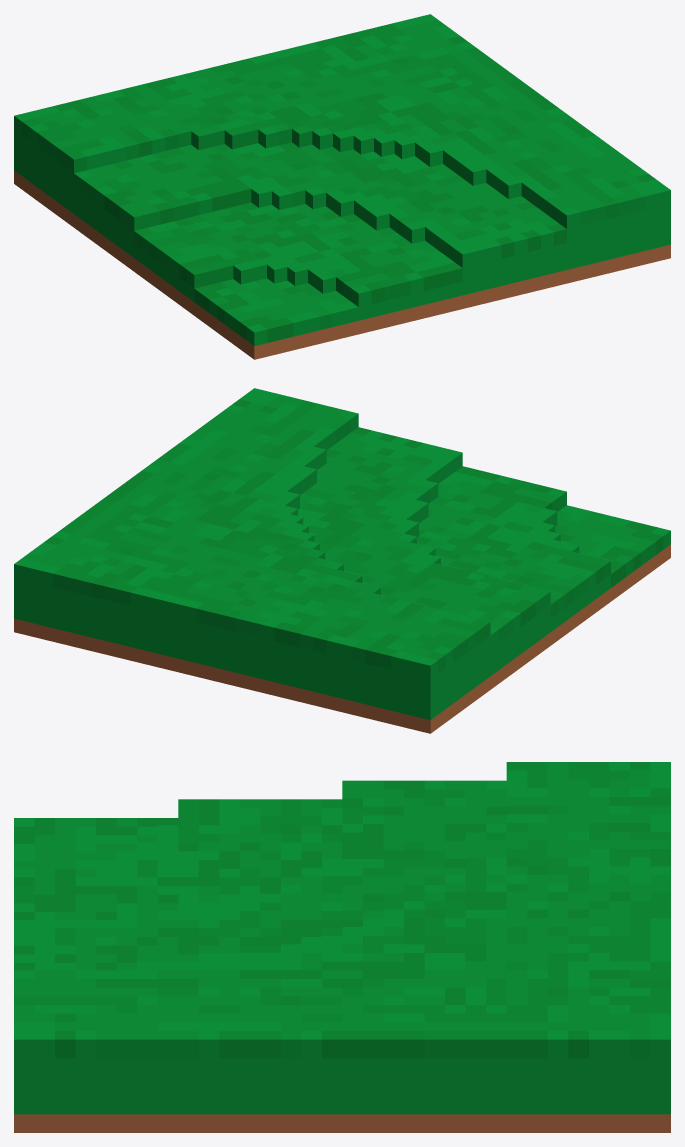
Rendered from forest-uneven-edge-inner-2.gltf.
3 renders of one model, top to bottom at view 1: azimuth 30°, elevation 25°; view 2: azimuth 150°, elevation 25°; view 3: azimuth 270°, elevation 25°, orthographic. The views are drawn at different scales.
Parts seen in each view (by area): view 1: forest-uneven-edge-inner-2_model; view 2: forest-uneven-edge-inner-2_model; view 3: forest-uneven-edge-inner-2_model.
Boxes of the visible parts, <box> form: forest-uneven-edge-inner-2_model: <box>14,14,670,359</box>; forest-uneven-edge-inner-2_model: <box>14,388,670,733</box>; forest-uneven-edge-inner-2_model: <box>14,762,670,1132</box>.
Bounding box in the file's own units: 3.2 × 0.5 × 3.2.
1 material, 1 textured.
